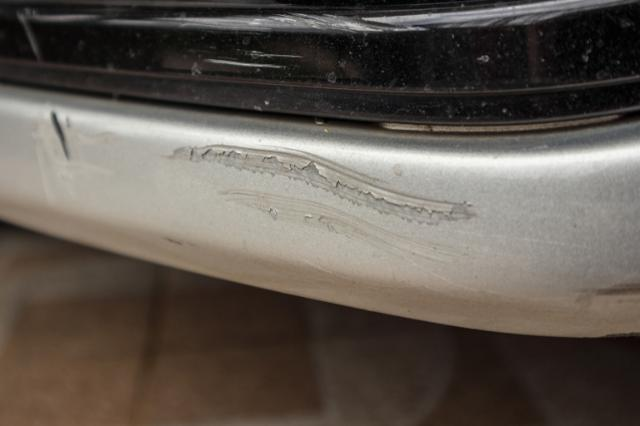Bumper: (0, 89, 544, 302)
